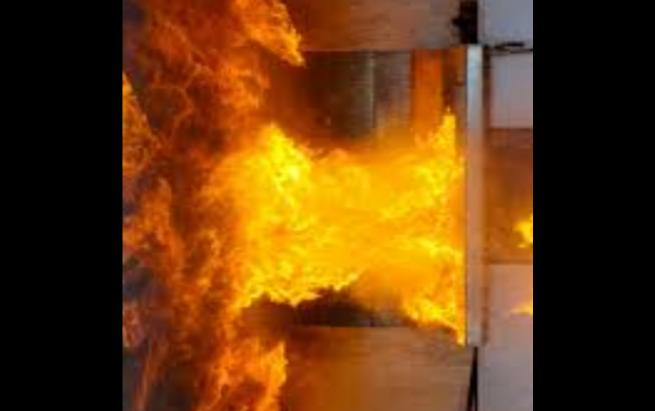fire: (131, 0, 468, 411)
smoke: (122, 0, 239, 411)
